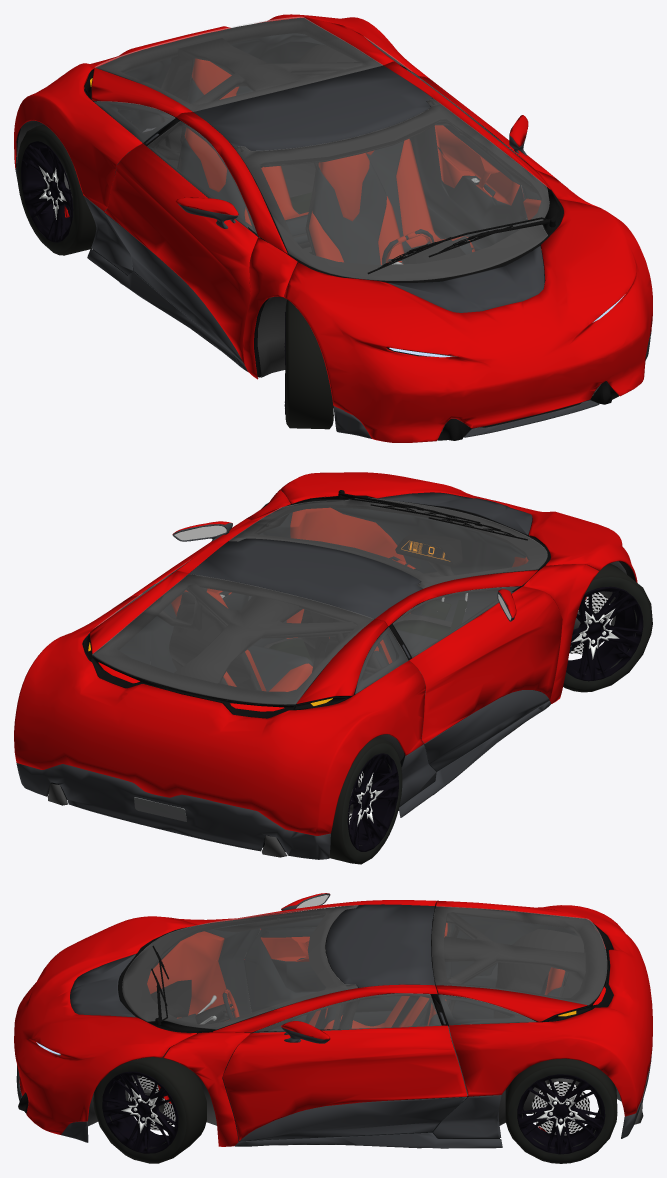
File: car.glb
The picture shows the model from 3 angles, top to bottom: view 1: azimuth 30°, elevation 25°; view 2: azimuth 150°, elevation 25°; view 3: azimuth 270°, elevation 25°; orthographic projection. The views are drawn at different scales.
Parts seen in each view (by area): view 1: concept-supercar — STATIC material batch; view 2: concept-supercar — STATIC material batch; view 3: concept-supercar — STATIC material batch.
Part boxes in pixels (x1,y1,x2,y2): concept-supercar — STATIC material batch: [14, 14, 652, 442]; concept-supercar — STATIC material batch: [14, 472, 652, 864]; concept-supercar — STATIC material batch: [14, 893, 652, 1163].
Size of the model in its own units: 2.54 by 1.15 by 4.36.
Materials: 17 (16 with a texture image).
